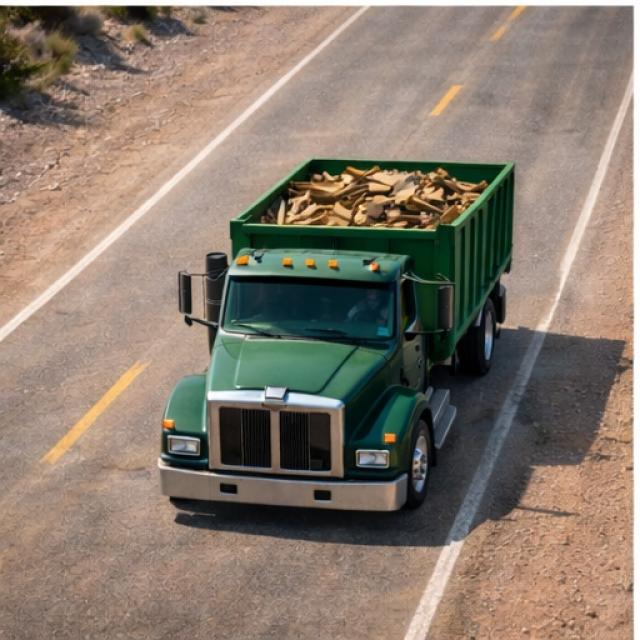Box: (231, 154, 516, 242)
Truck: (157, 137, 532, 516)
